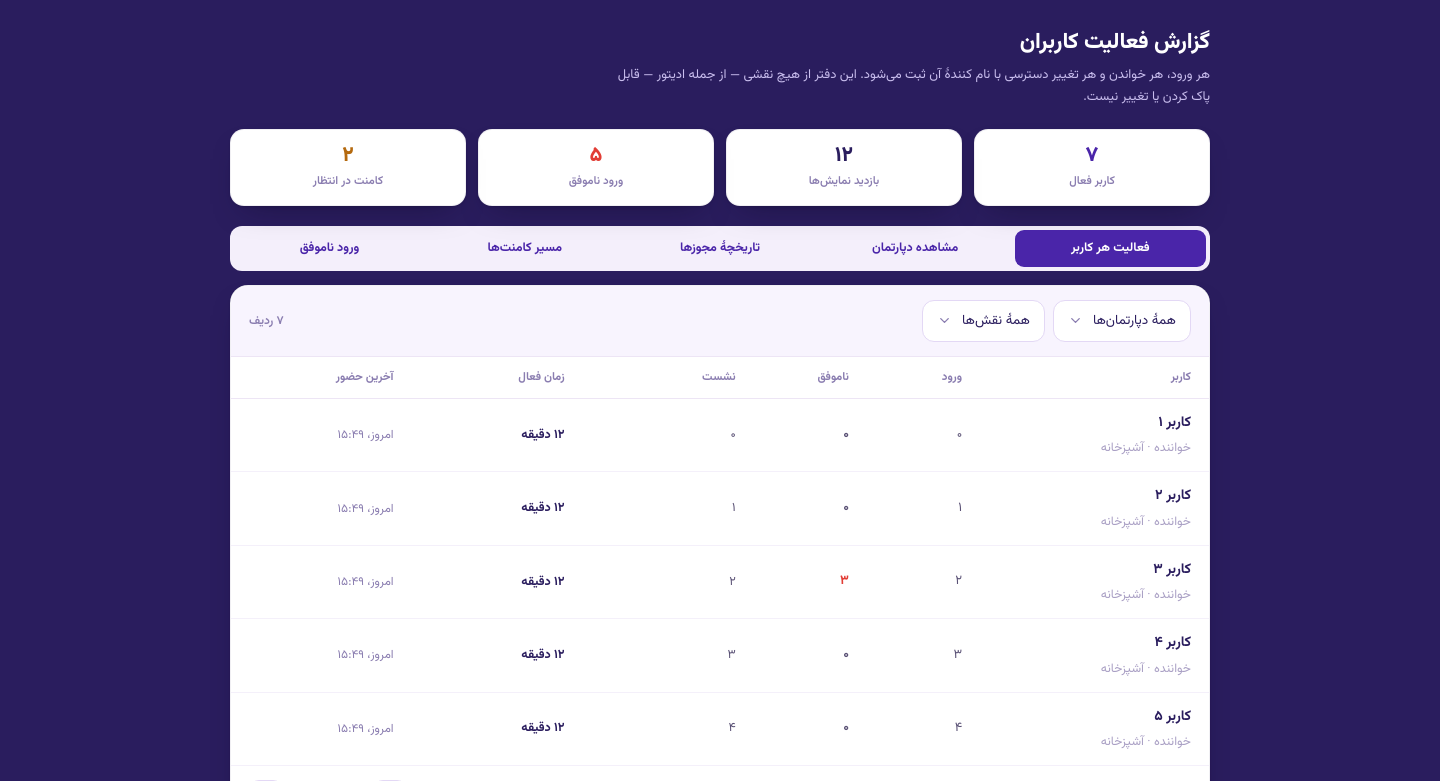
it: Activity › names each permission change in Persian, before and after
Click the tab "تاریخچهٔ مجوزها" at point(720, 248), box [624,230,816,267]
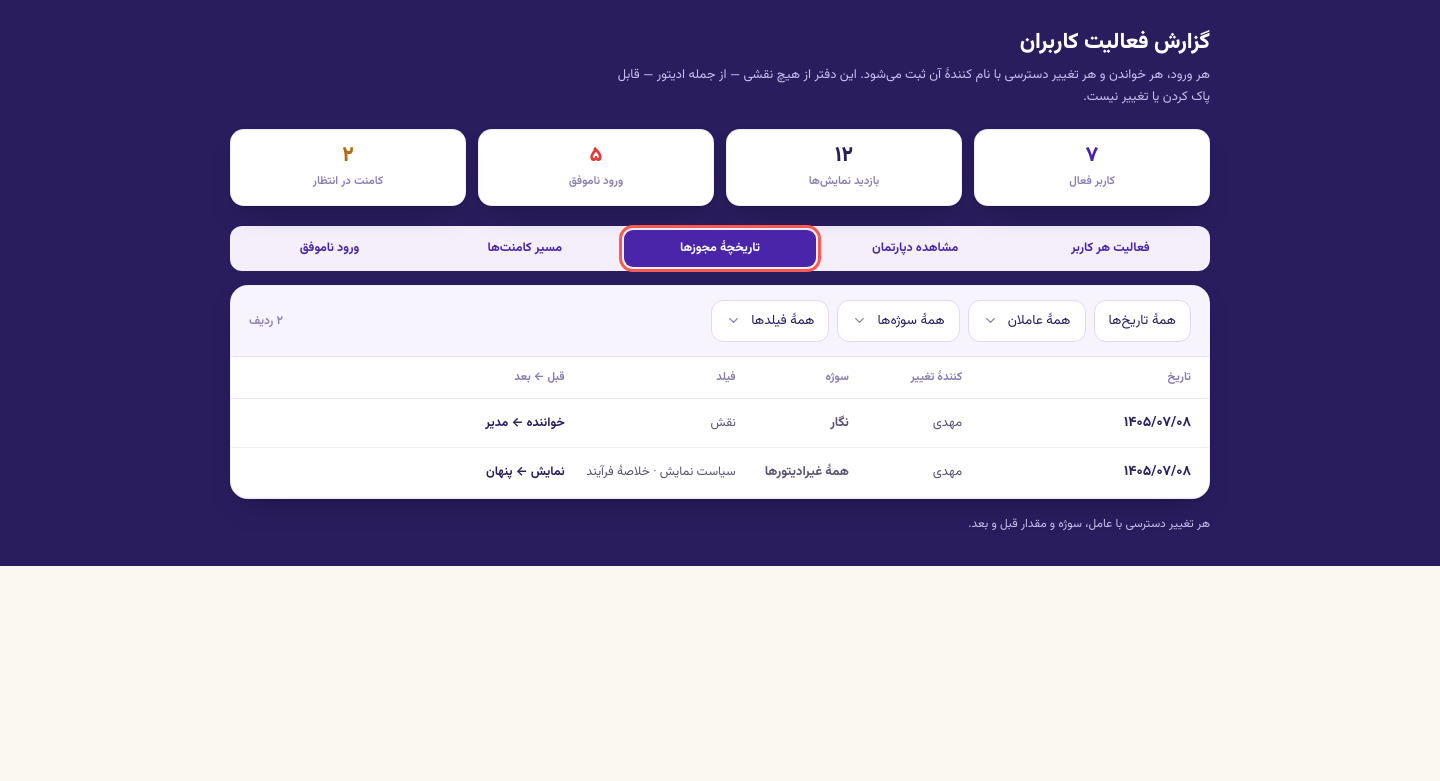
Check: the text "خواننده ← مدیر" is shown, box [485,413,565,433]
Check: the text "همهٔ غیرادیتورها" is shown, box [765,462,849,482]
Check: the text "نمایش ← پنهان" is shown, box [486,462,565,482]
